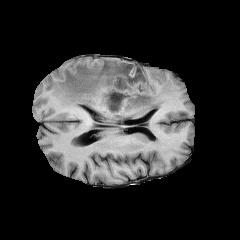glioma: (51, 60, 175, 121)
